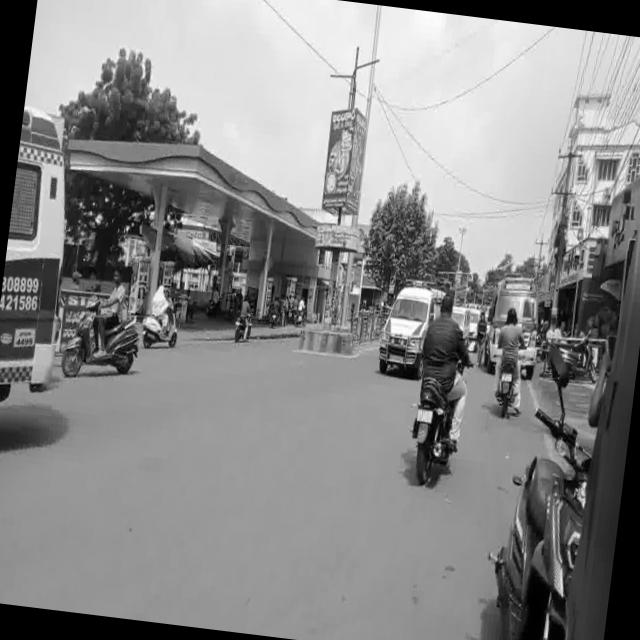ambulance: (0, 100, 79, 475), (366, 285, 430, 378), (472, 272, 550, 324)
